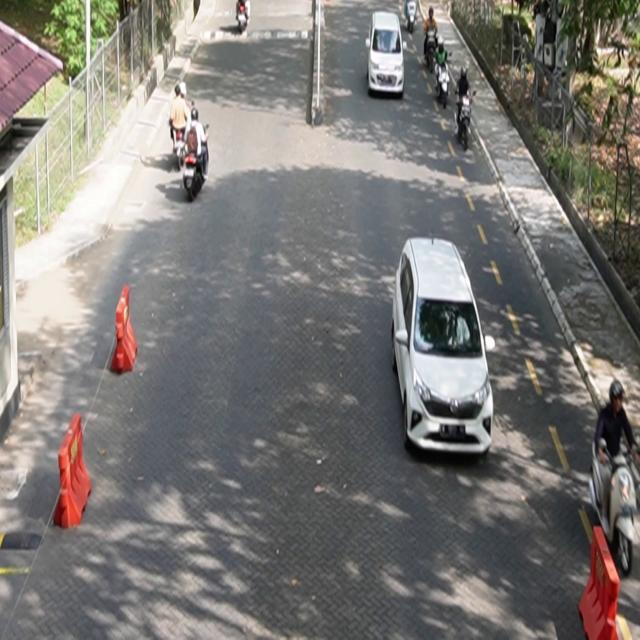car: (391, 237, 496, 457), (367, 12, 406, 99)
